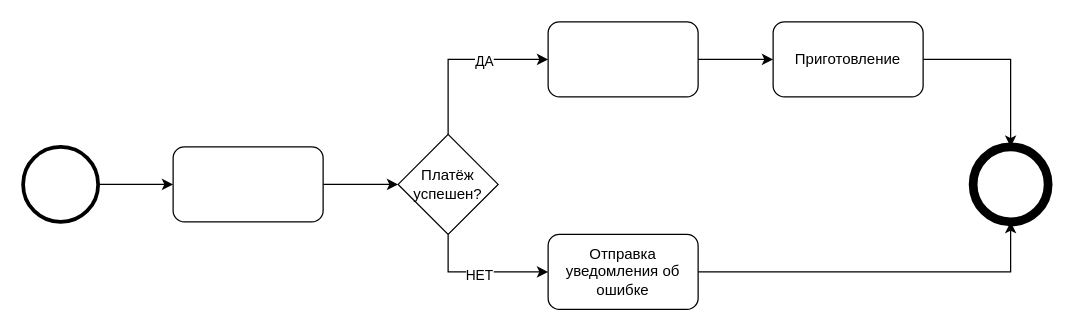
This 1074x331 diagram has some shape labels left out. The shapes that lost their labels are listed below. From the top down, each one's centre as x and y in pixels, then its label:
At point 622,59: "Передача заказа".
At point 247,184: "Обработка платежа".
